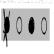correct: (28, 15, 35, 37)
not correct: (2, 8, 10, 48)
